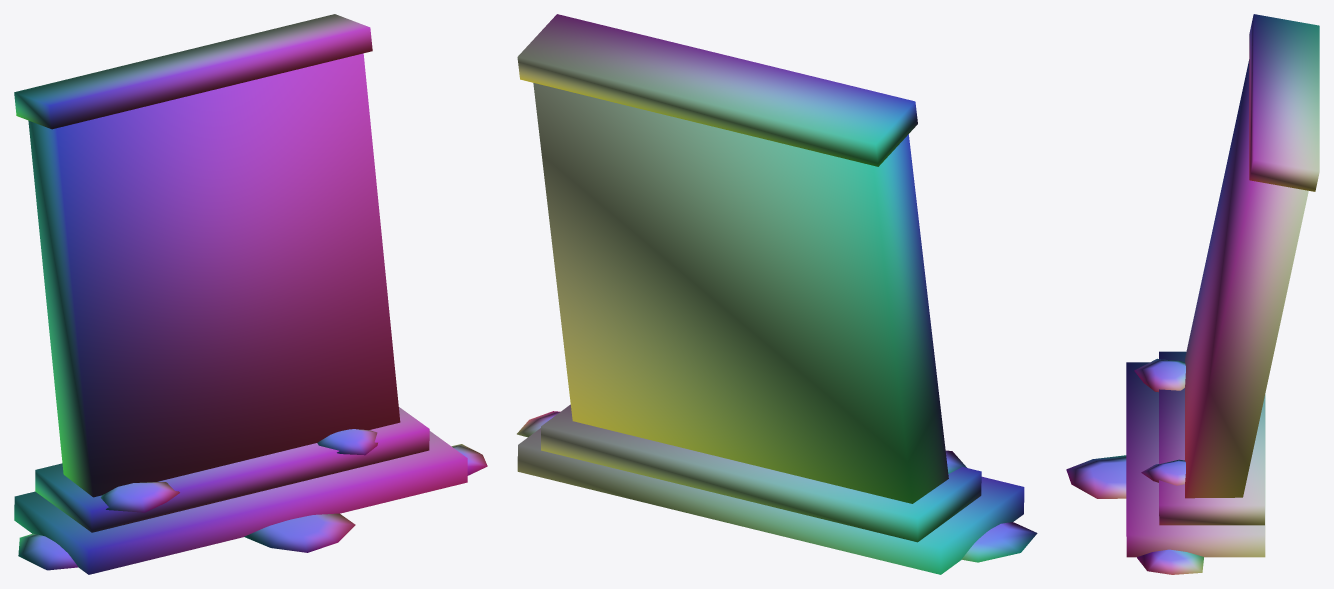
File: SM_Pit_FlameNiche_LOD1.fbx
The picture shows the model from 3 angles, left to right: view 1: azimuth 30°, elevation 25°; view 2: azimuth 150°, elevation 25°; view 3: azimuth 270°, elevation 25°; orthographic projection. The views are drawn at different scales.
Parts seen in each view (by area): view 1: SM_Pit_FlameNiche_LOD1; view 2: SM_Pit_FlameNiche_LOD1; view 3: SM_Pit_FlameNiche_LOD1.
Part boxes in pixels (x1=…): SM_Pit_FlameNiche_LOD1: x1=14, y1=14, x2=487, y2=574; SM_Pit_FlameNiche_LOD1: x1=517, y1=14, x2=1037, y2=574; SM_Pit_FlameNiche_LOD1: x1=1066, y1=14, x2=1319, y2=574.
Bounding box in the file's own units: 3.29 × 2.88 × 1.72.
